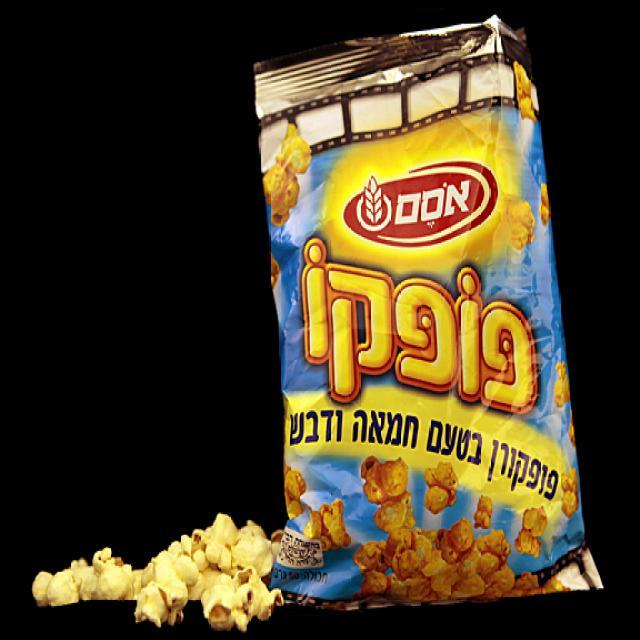Chips: (238, 18, 626, 610)
Popcorn: (33, 500, 301, 640)
